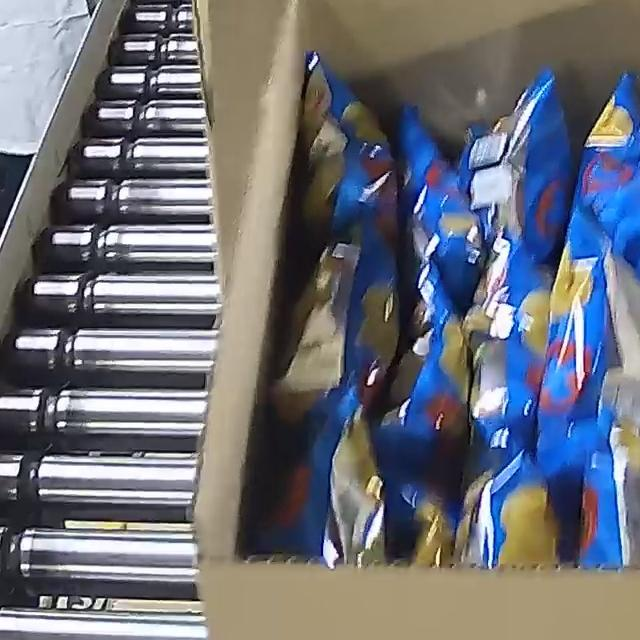paprika: (255, 48, 640, 571)
